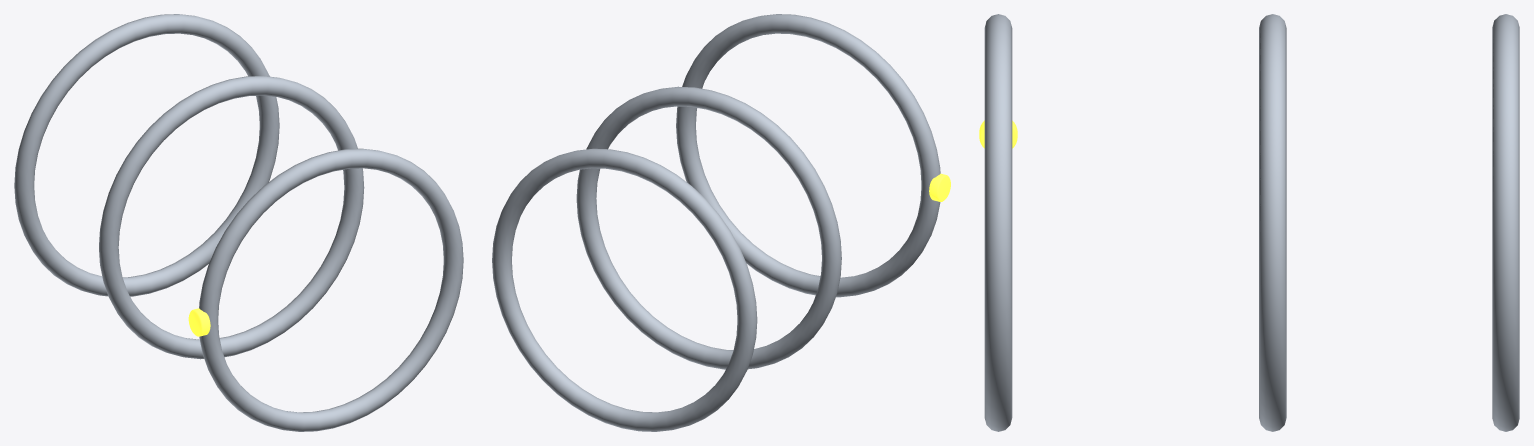
The model's file is tower_nova_damage_s2.glb.
The picture shows the model from 3 angles, left to right: view 1: azimuth 30°, elevation 25°; view 2: azimuth 150°, elevation 25°; view 3: azimuth 270°, elevation 25°; orthographic projection. The views are drawn at different scales.
Parts seen in each view (by area): view 1: nova_tube_band0.62, nova_tube_band1.02, nova_tube_band1.36, nova_up_damage_l2_stud; view 2: nova_tube_band1.36, nova_tube_band1.02, nova_tube_band0.62, nova_up_damage_l2_stud; view 3: nova_tube_band0.62, nova_tube_band1.02, nova_tube_band1.36.
Boxes of the visible parts, box(x1,y1,x2,y2) form: nova_tube_band0.62: box(199, 148, 463, 431); nova_tube_band1.02: box(99, 76, 364, 359); nova_tube_band1.36: box(14, 14, 279, 296); nova_up_damage_l2_stud: box(188, 308, 210, 336); nova_tube_band1.36: box(492, 148, 757, 431); nova_tube_band1.02: box(576, 86, 841, 369); nova_tube_band0.62: box(676, 14, 940, 297); nova_up_damage_l2_stud: box(929, 173, 950, 201); nova_tube_band0.62: box(984, 14, 1012, 431); nova_tube_band1.02: box(1259, 14, 1286, 431); nova_tube_band1.36: box(1492, 14, 1519, 431).
Bounding box in the file's own units: 0.621 × 0.61 × 0.788.
